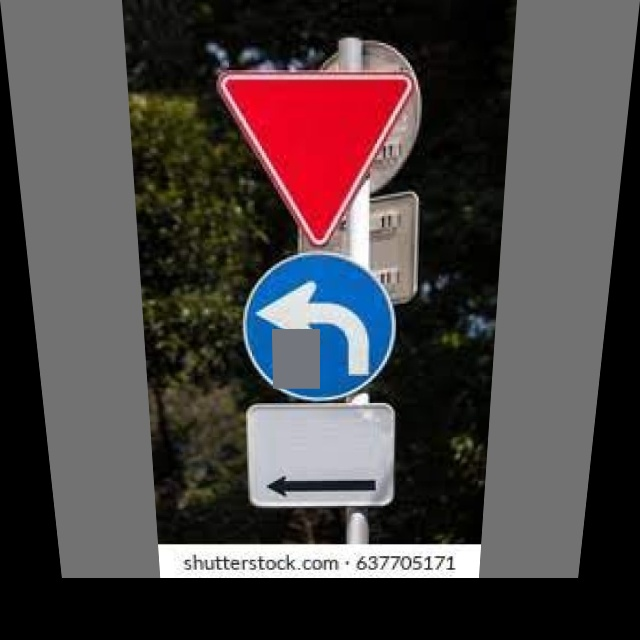Compulsory_Turn_Left_Ahead: (242, 255, 399, 399)
